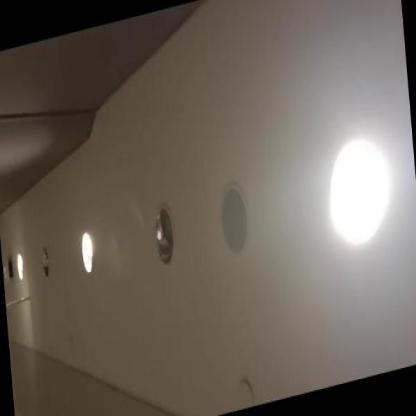light_off: (137, 186, 200, 286), (35, 228, 63, 296)
